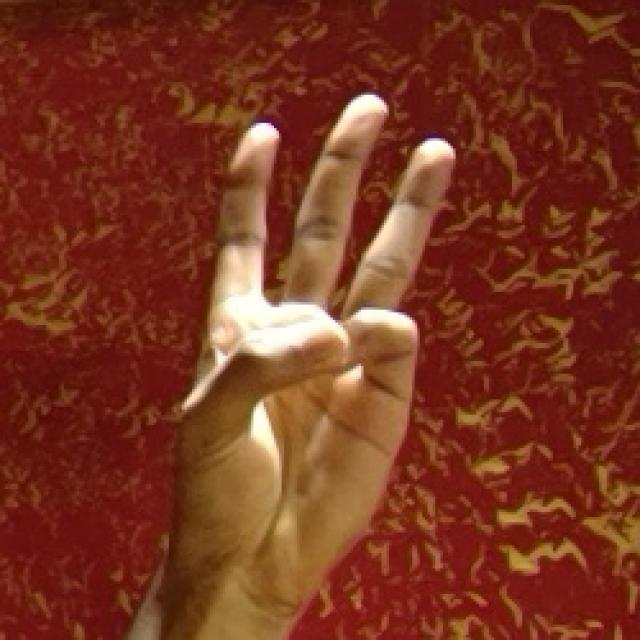Numeric-6: (166, 77, 462, 601)
